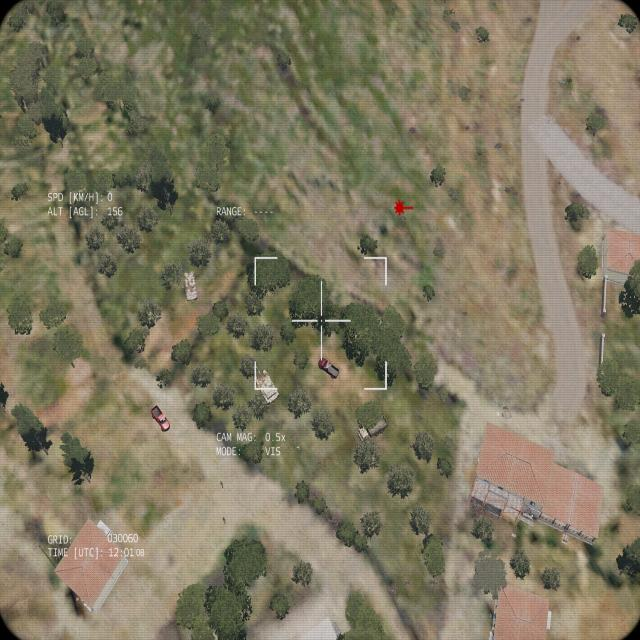apc: (183, 270, 198, 301)
car: (148, 403, 174, 438), (318, 355, 341, 381)
tank: (252, 362, 278, 402)
truck: (356, 412, 388, 443)
